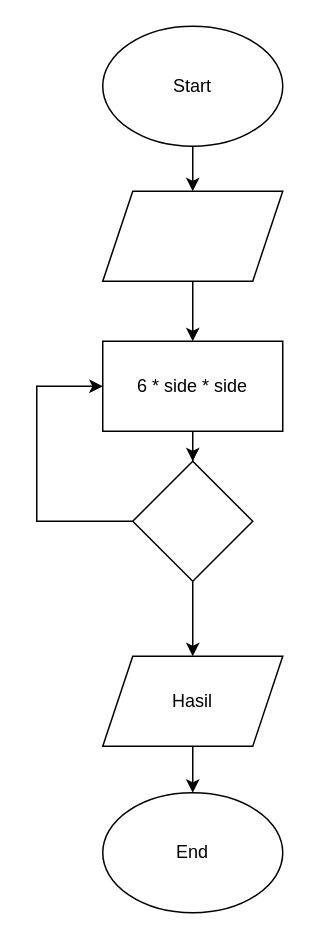
Some shapes in this 309 by 939 pixel diagram are drawn without their labels. Each missing label, with the centre of its shape:
IF Hasil Sesuai: (192,520)
input side: (192,235)
